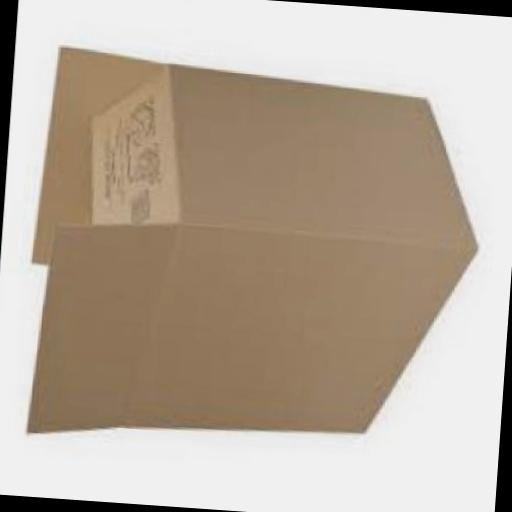cardboard: (15, 42, 484, 460), (132, 218, 475, 440), (155, 60, 482, 242), (31, 44, 169, 275), (26, 212, 160, 439)
